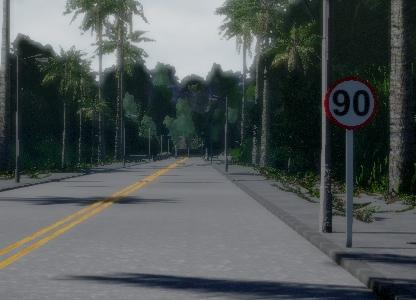Speed_90: (323, 73, 379, 134)
